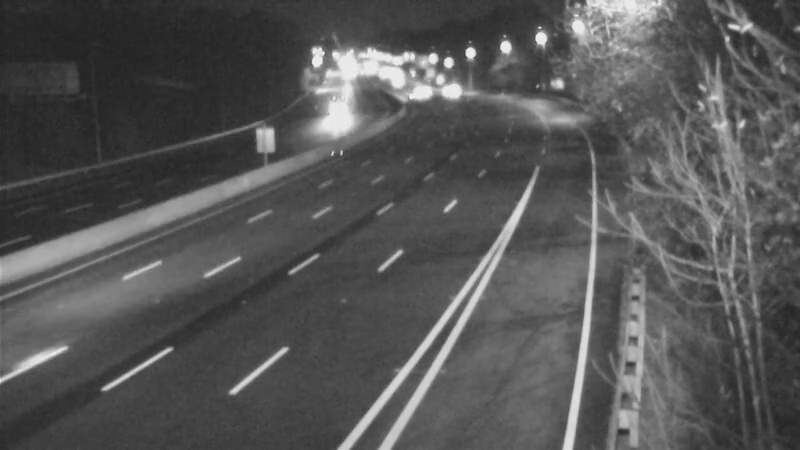vehicle: (418, 69, 468, 119), (389, 70, 439, 120), (302, 85, 352, 135)
